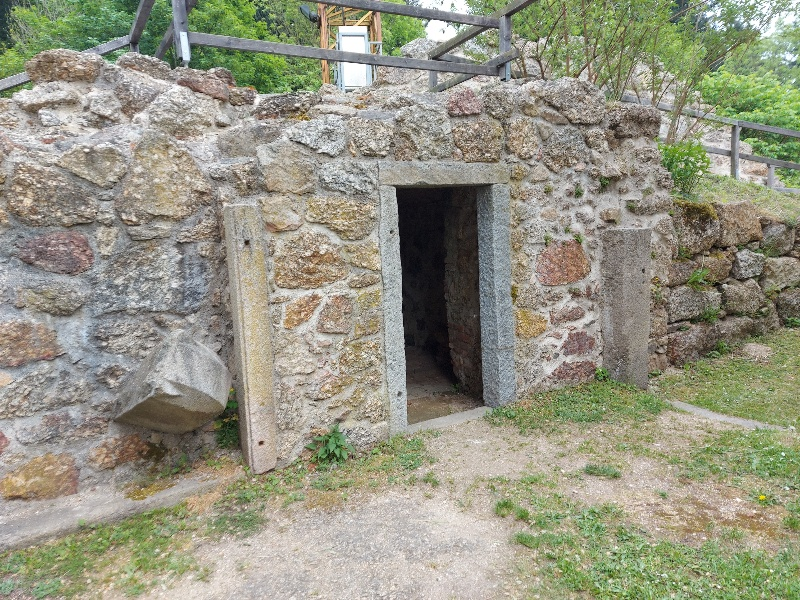door2: (369, 151, 529, 438)
